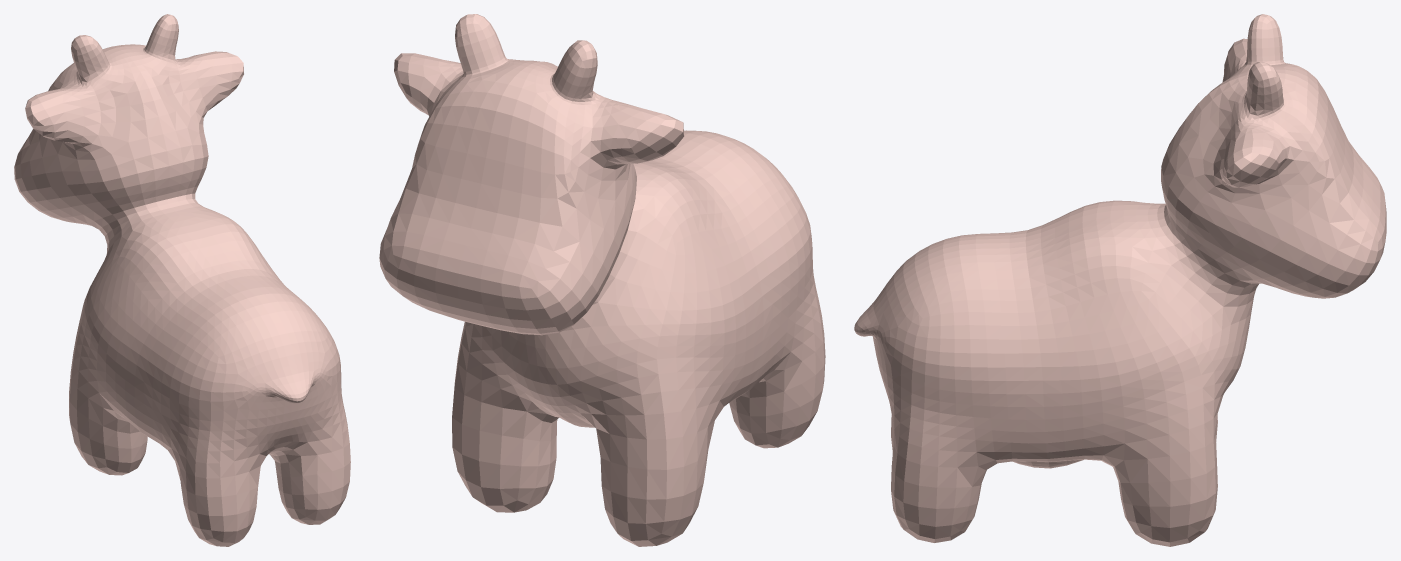
File: spot_triangulated.obj
The picture shows the model from 3 angles, left to right: view 1: azimuth 30°, elevation 25°; view 2: azimuth 150°, elevation 25°; view 3: azimuth 270°, elevation 25°; orthographic projection. The views are drawn at different scales.
Parts seen in each view (by area): view 1: mesh; view 2: mesh; view 3: mesh.
Part boxes in pixels (box(x1,y1,x2,y2)): mesh: box(14, 14, 350, 546); mesh: box(379, 14, 825, 546); mesh: box(854, 14, 1386, 546).
Size of the model in its own units: 0.9431 by 1.69 by 1.72.
